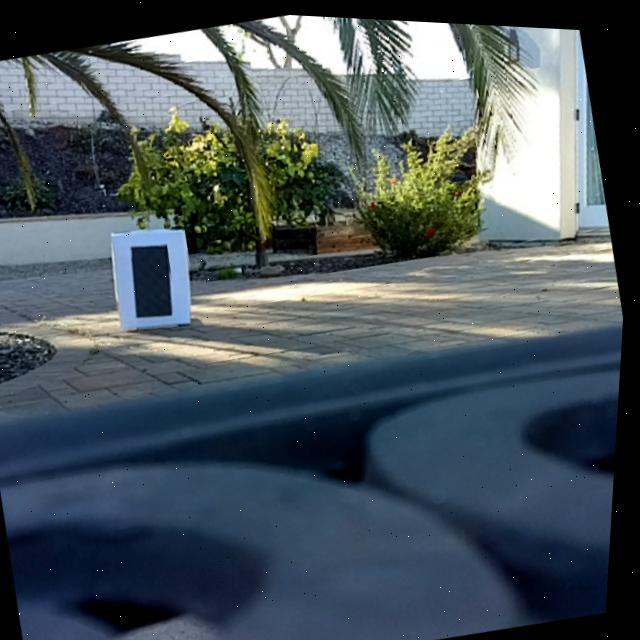led: (125, 236, 185, 320)
